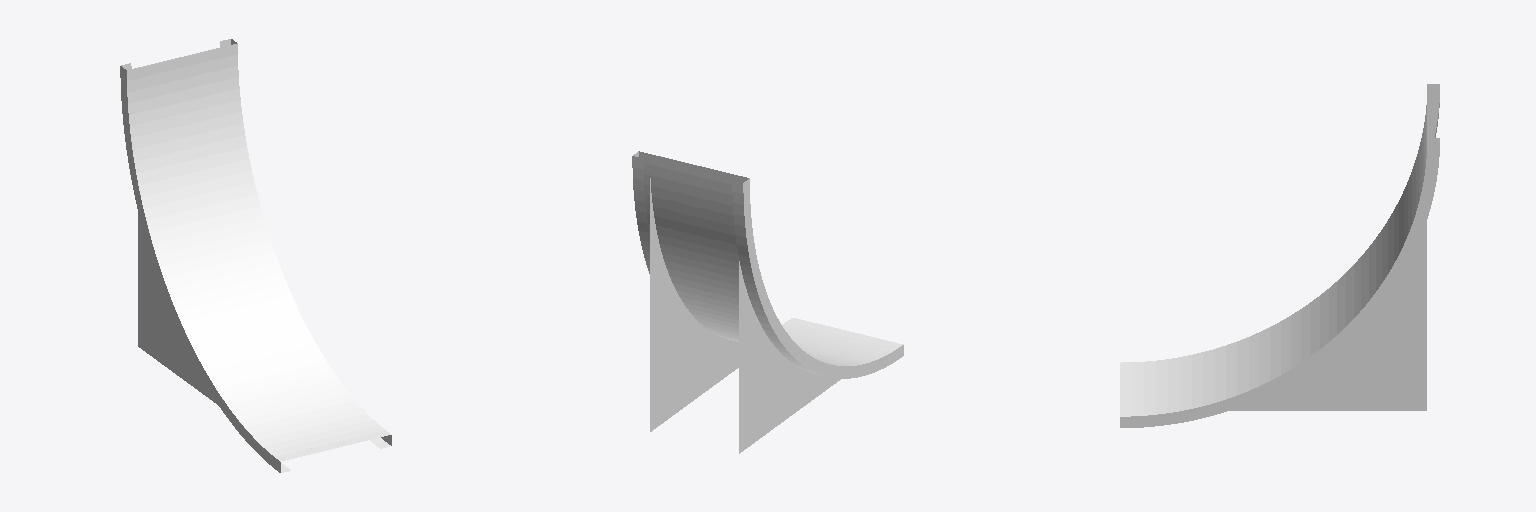
File: InTheZoneCurve.obj
The picture shows the model from 3 angles: view 1: azimuth 30°, elevation 25°; view 2: azimuth 150°, elevation 25°; view 3: azimuth 270°, elevation 25°; orthographic projection.
Visible parts, largest first — view 1: InTheZoneCurve; view 2: InTheZoneCurve; view 3: InTheZoneCurve.
Part boxes in pixels (bbox=[...]): InTheZoneCurve: bbox=[120, 39, 391, 472]; InTheZoneCurve: bbox=[632, 151, 903, 453]; InTheZoneCurve: bbox=[1120, 84, 1439, 427].
Size of the model in its own units: 5 by 12.5 by 12.5.